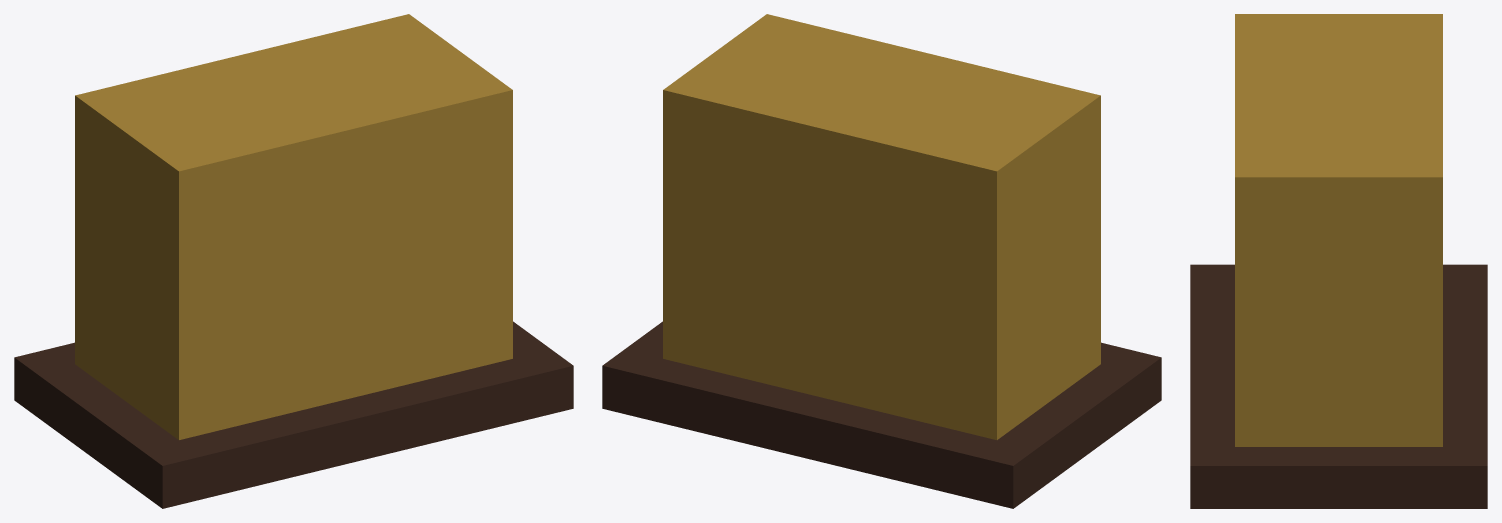
The model's file is ngua_sat.glb.
3 views of the same model, side by side, from view 1: azimuth 30°, elevation 25°; view 2: azimuth 150°, elevation 25°; view 3: azimuth 270°, elevation 25° (orthographic).
Visible parts, largest first — view 1: Mesh_1, Mesh_0; view 2: Mesh_1, Mesh_0; view 3: Mesh_1, Mesh_0.
Part boxes in pixels (bbox=[...]): Mesh_1: bbox=[75, 14, 512, 439]; Mesh_0: bbox=[14, 321, 573, 508]; Mesh_1: bbox=[663, 14, 1100, 439]; Mesh_0: bbox=[602, 321, 1161, 508]; Mesh_1: bbox=[1235, 14, 1442, 446]; Mesh_0: bbox=[1190, 264, 1487, 508].
Size of the model in its own units: 2 by 1.45 by 1.25.
